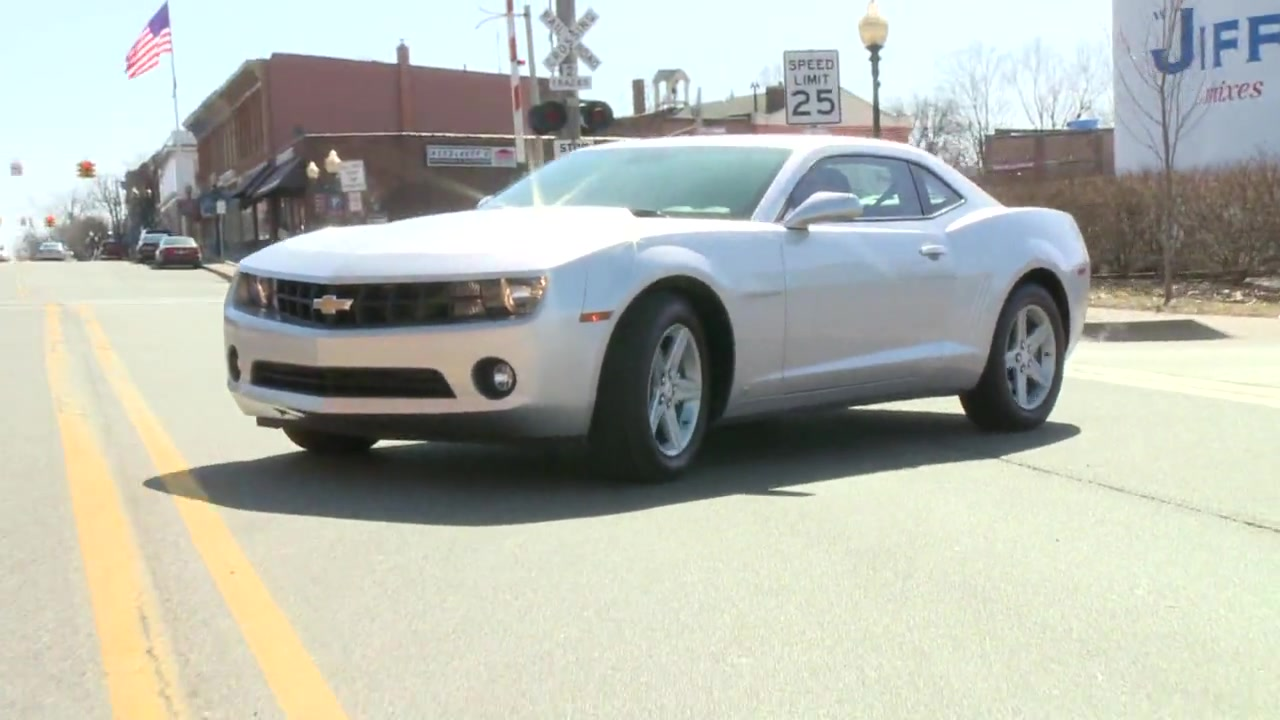car: (219, 127, 1101, 469)
